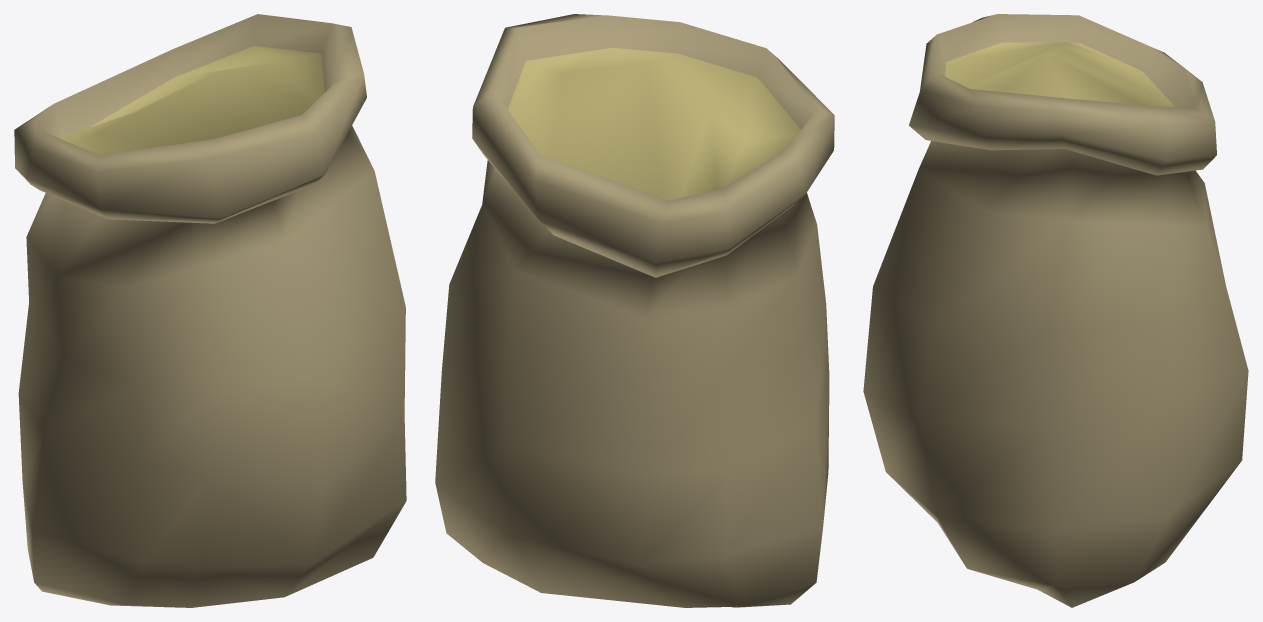
Rendered from rpgpp_lt_sack_open_01.glb.
The picture shows the model from 3 angles, left to right: view 1: azimuth 30°, elevation 25°; view 2: azimuth 150°, elevation 25°; view 3: azimuth 270°, elevation 25°; orthographic projection. The views are drawn at different scales.
Parts seen in each view (by area): view 1: rpgpp_lt_sack_open_01; view 2: rpgpp_lt_sack_open_01; view 3: rpgpp_lt_sack_open_01.
Part boxes in pixels (box(x1,y1,x2,y2)): rpgpp_lt_sack_open_01: box(14, 14, 406, 607); rpgpp_lt_sack_open_01: box(435, 14, 834, 607); rpgpp_lt_sack_open_01: box(863, 14, 1248, 607).
Size of the model in its own units: 0.8051 by 1.09 by 0.767.
Materials: 1 (1 with a texture image).
